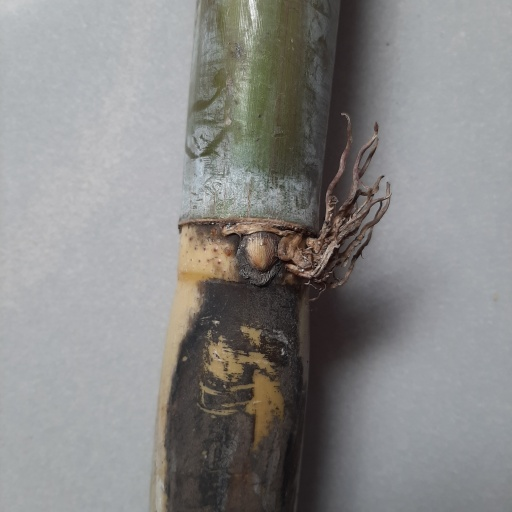Bud: (243, 233, 277, 271)
